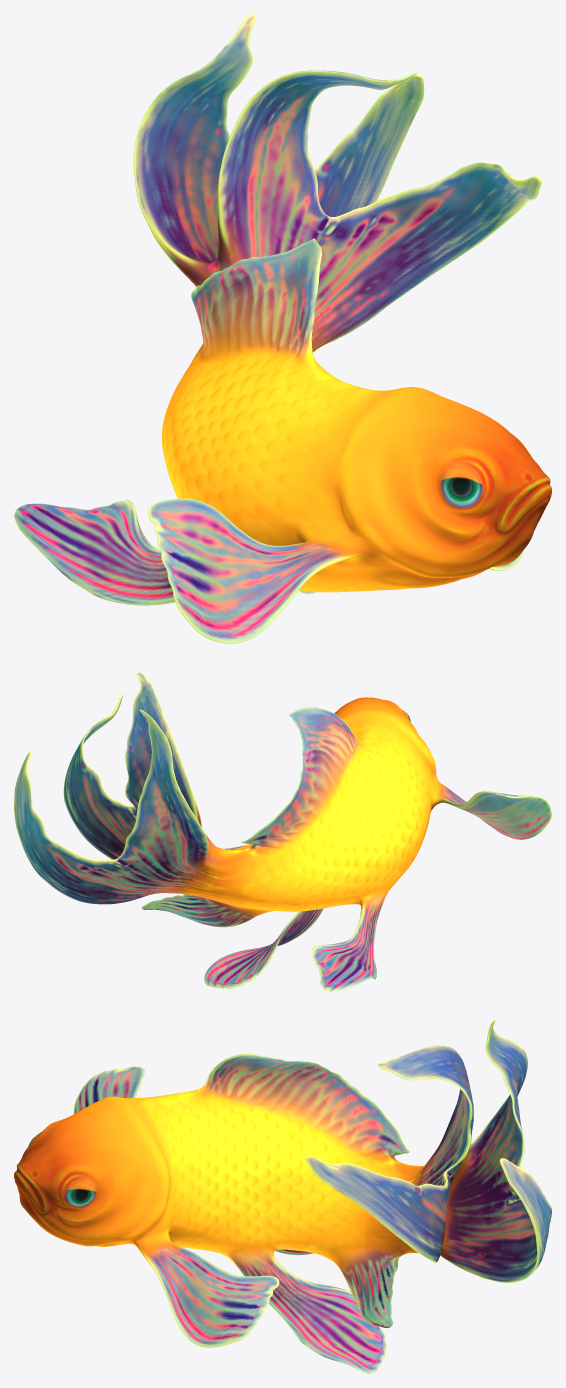
Rendered from fish.glb.
3 renders of one model, top to bottom at view 1: azimuth 30°, elevation 25°; view 2: azimuth 150°, elevation 25°; view 3: azimuth 270°, elevation 25°, orthographic. The views are drawn at different scales.
Visible parts, largest first — view 1: G_Fish67; view 2: G_Fish67; view 3: G_Fish67.
Part boxes in pixels (<box>): G_Fish67: <box>14,14,551,643</box>; G_Fish67: <box>14,672,551,991</box>; G_Fish67: <box>14,1020,551,1373</box>.
Size of the model in its own units: 6.41 by 5.43 by 7.36.
Materials: 1 (1 with a texture image).
